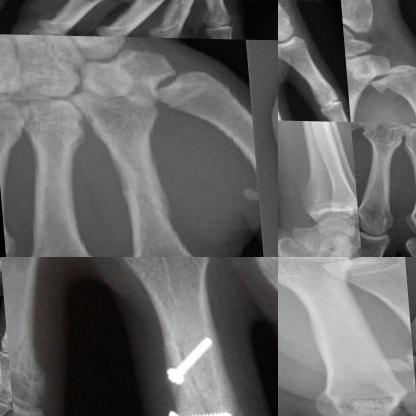fracture: (149, 320, 245, 415), (98, 155, 172, 229), (366, 68, 407, 96)
